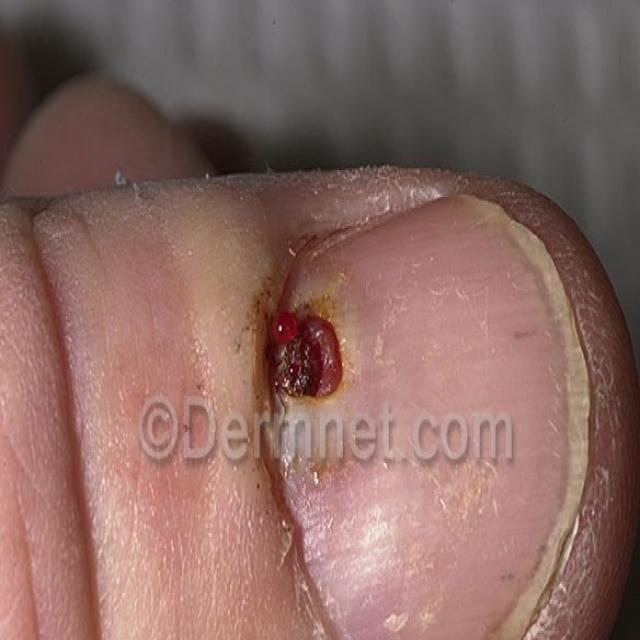Vascular Tumors: (235, 278, 356, 420)
